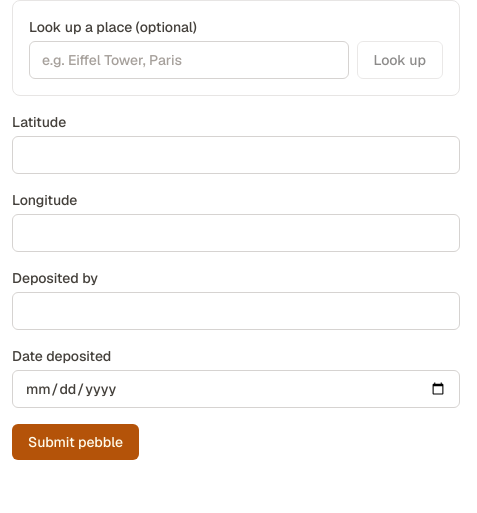
SubmitPebbleForm › place lookup › clears the resolved-address note once coordinates are edited manually
The image size is (477, 513).
Step 1. Type "Paris" into the field with placeholder "e.g. Eiffel Tower, Paris" → (189, 60), box [29, 41, 348, 79]
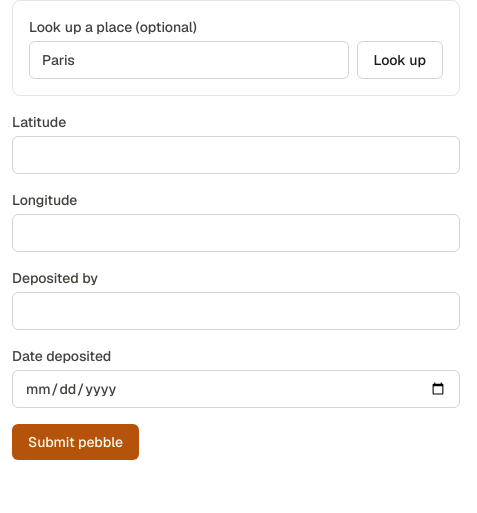
Step 2. Click the button "Look up" → (400, 60), box [356, 41, 443, 79]
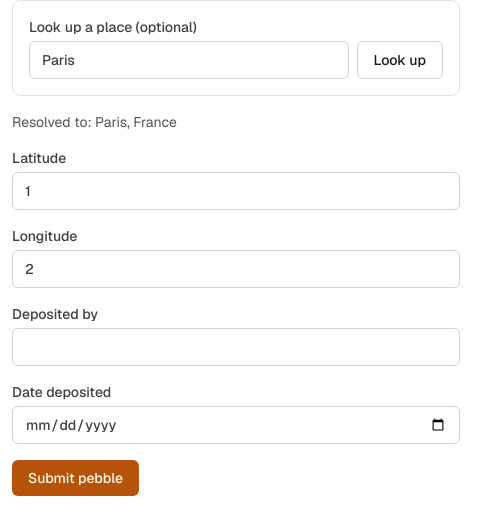
Result: the text "Resolved to: Paris, France" is shown at [12, 113, 177, 131]
Step 3. Replace the text in the field labelled "Latitude" with "3" → (236, 191), box [12, 172, 460, 210]
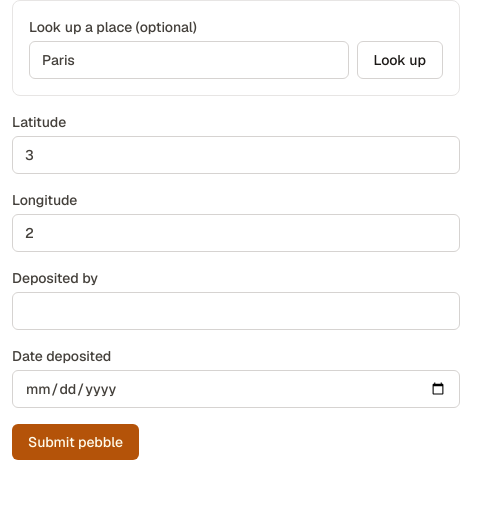
Result: the text "Resolved to:" is gone
